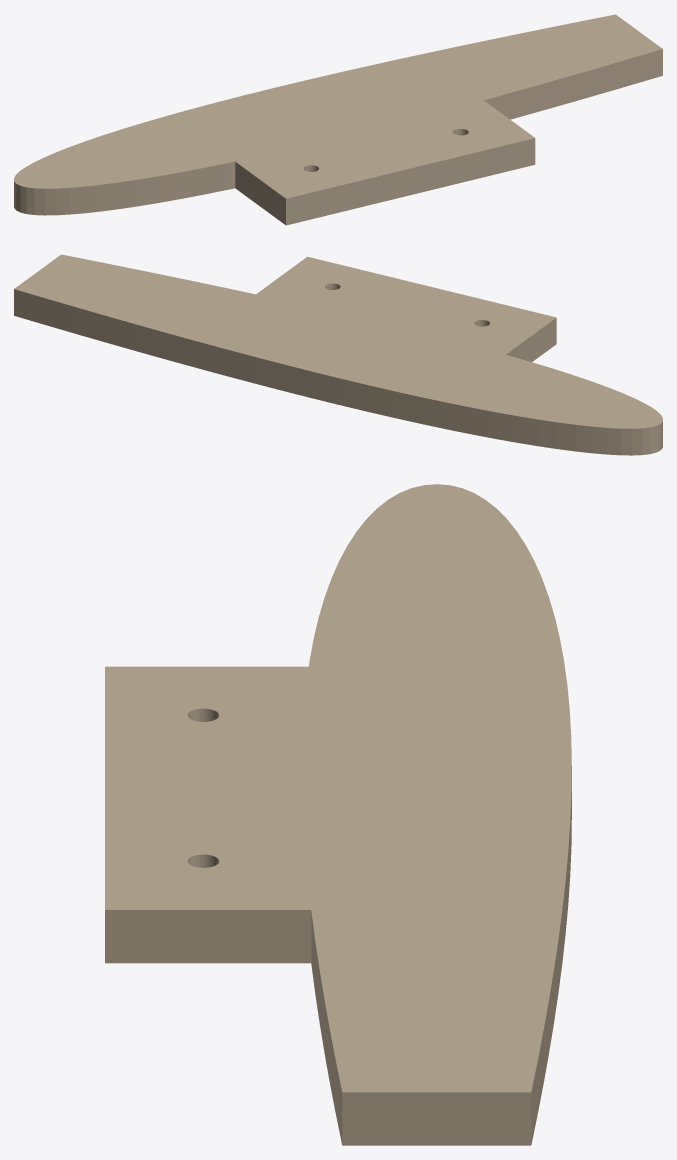
3 renders of one model, top to bottom at view 1: azimuth 30°, elevation 25°; view 2: azimuth 150°, elevation 25°; view 3: azimuth 270°, elevation 25°, orthographic. The views are drawn at different scales.
Parts seen in each view (by area): view 1: geometry_0; view 2: geometry_0; view 3: geometry_0.
Part boxes in pixels (x1,y1,x2,y2): geometry_0: (14,14,662,225); geometry_0: (14,254,662,455); geometry_0: (105,484,571,1145).
Bounding box in the file's own units: 293 × 12 × 94.93.
